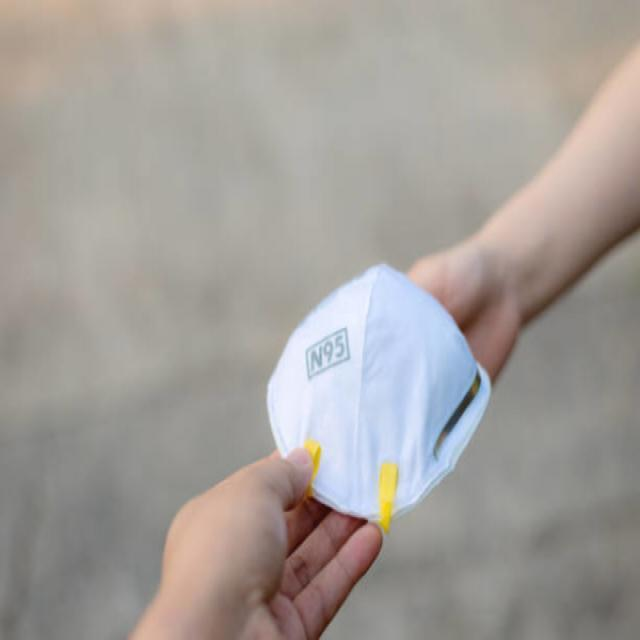face mask: (264, 253, 498, 528)
